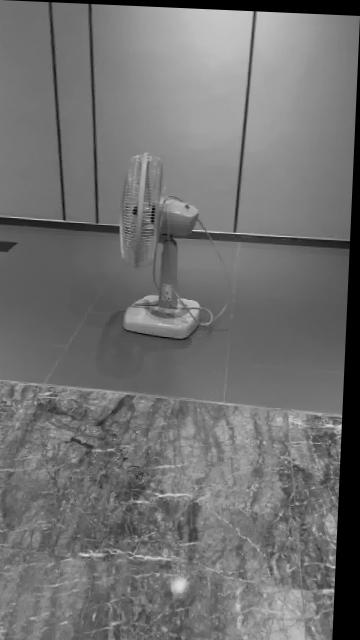Fan: (122, 151, 203, 338)
